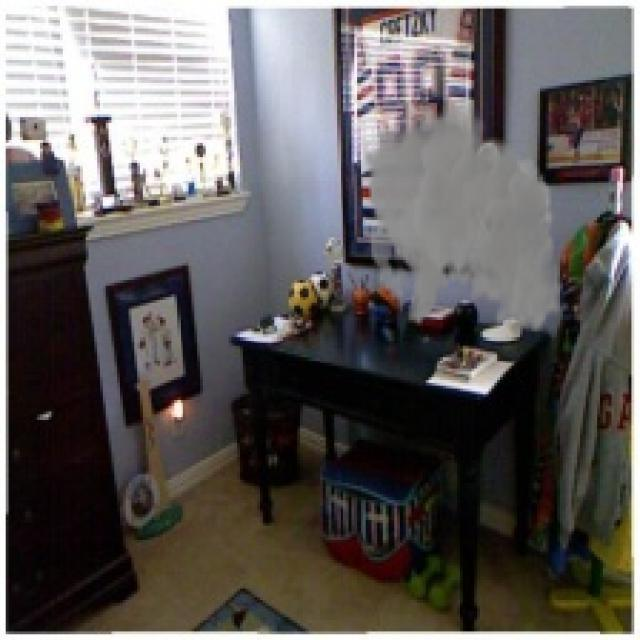Smoke: (363, 88, 563, 340)
